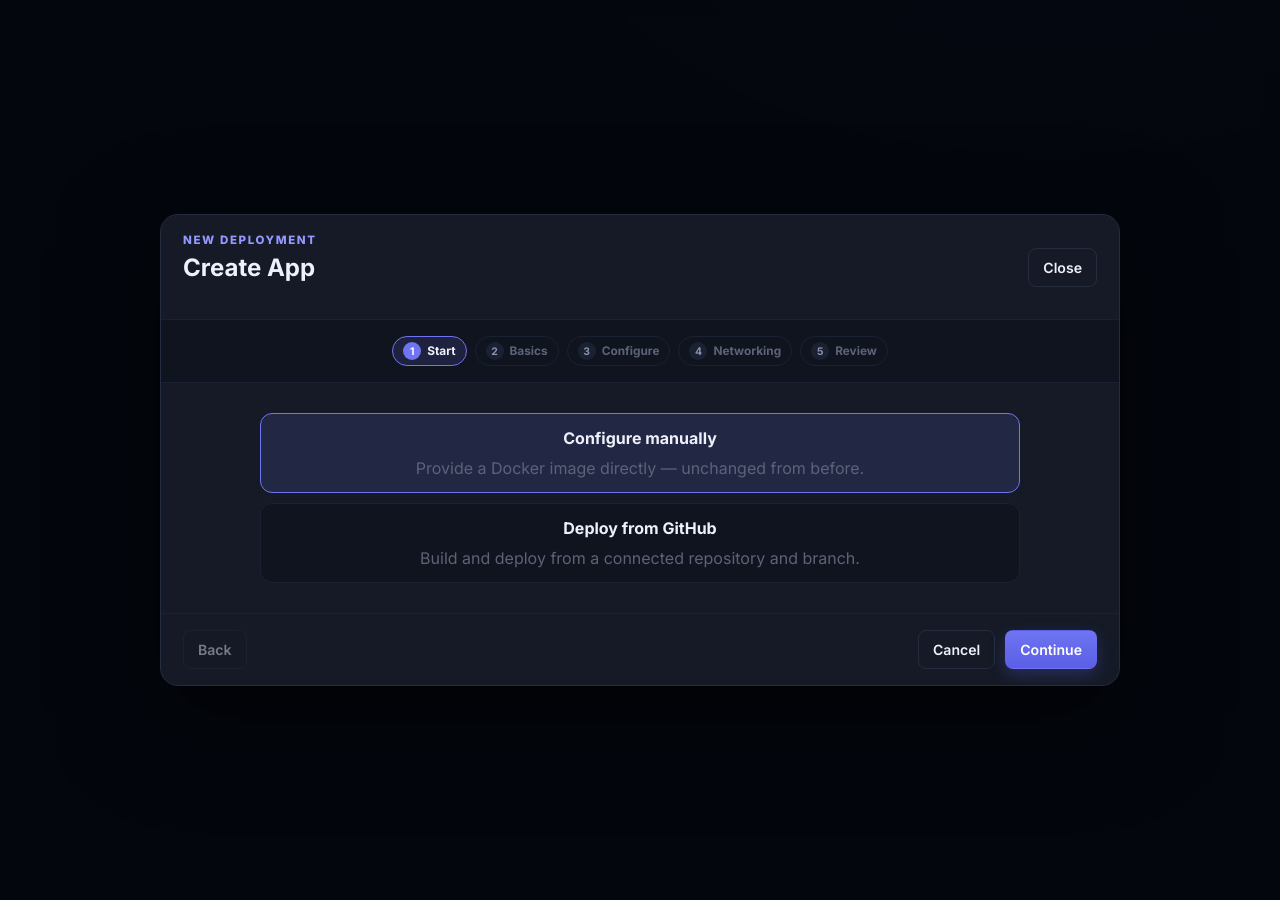
Scenario: CreateAppWizard — manual deployment-strategy override › a Node.js-detected repository can manually select Dockerfile
Step 1. Click the text "Deploy from GitHub" → [640, 528], box [563,518,717,538]
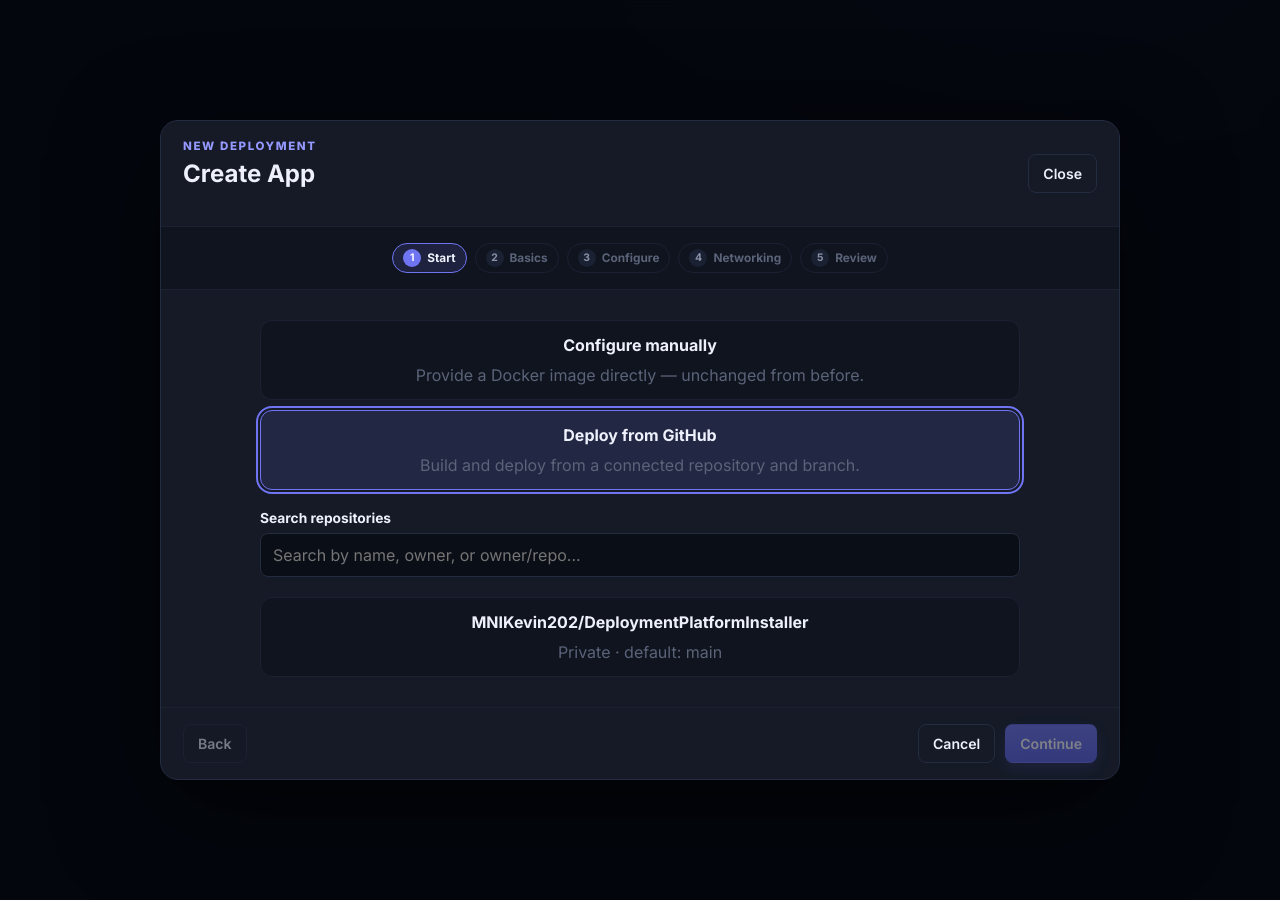
Step 2. Click the text "MNIKevin202/DeploymentPlatformInstaller" → [640, 622], box [471,612,809,632]
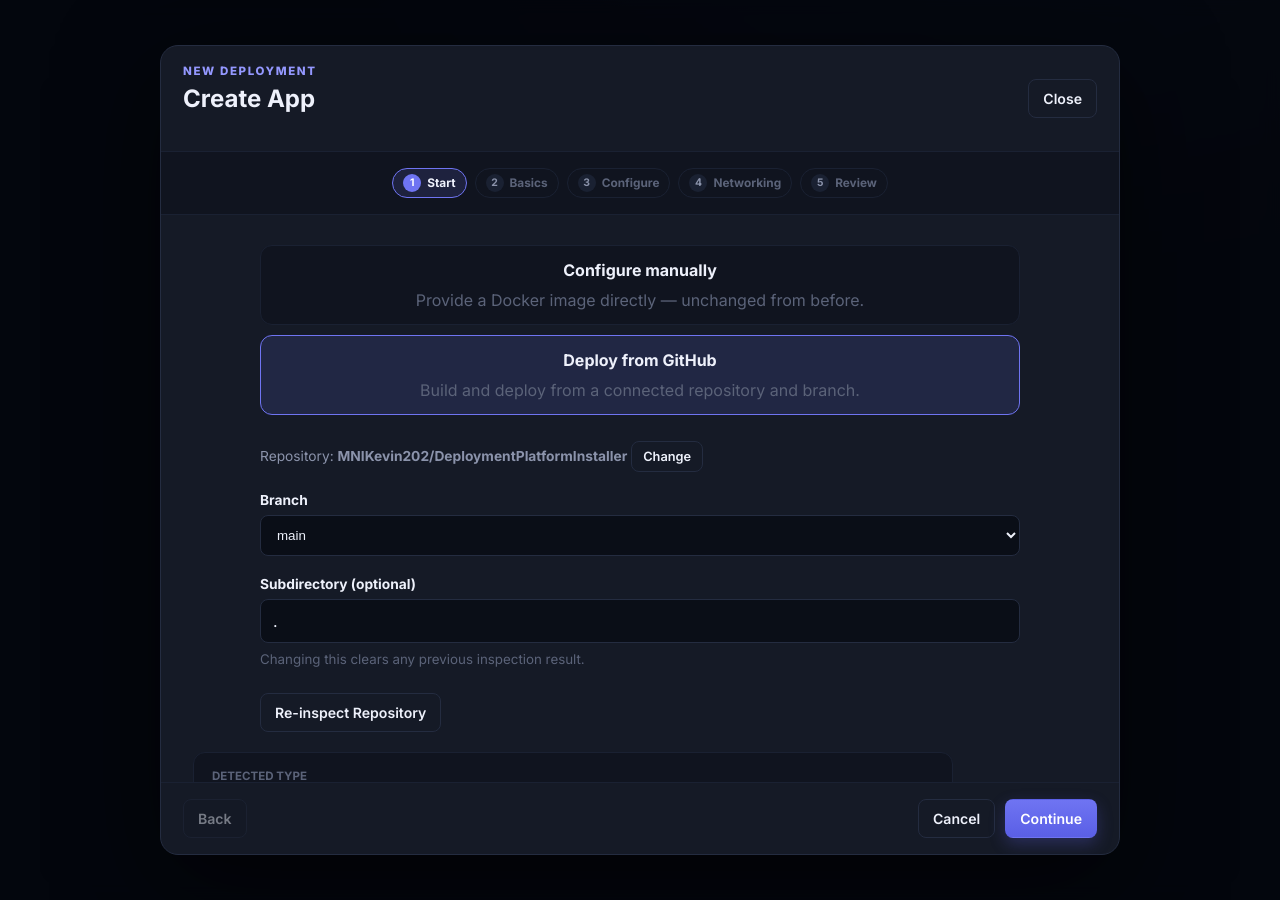
Step 3. Click the text "MNIKevin202/DeploymentPlatformInstaller" → [482, 456], box [338,448,627,464]
(page scrolled)
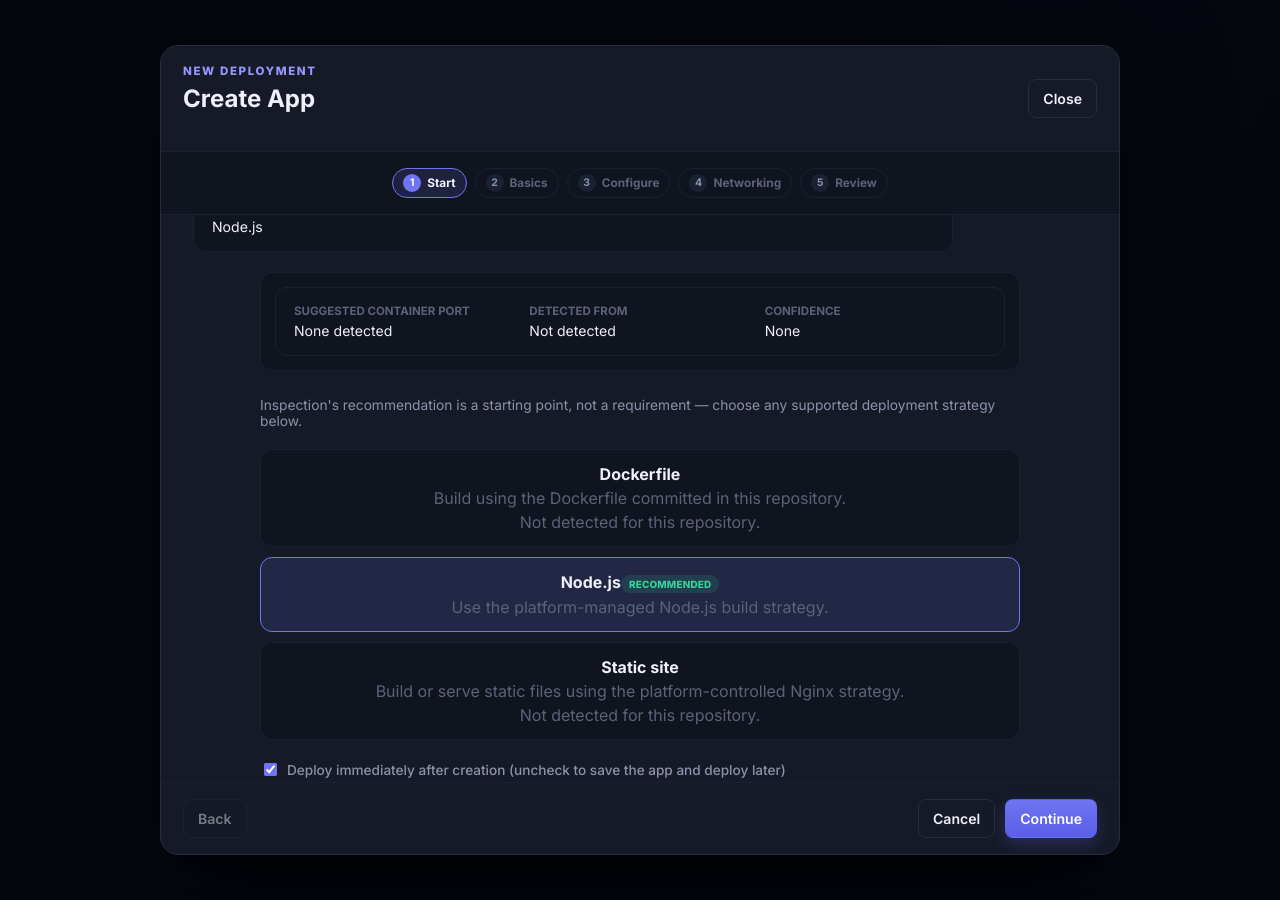
Result: the button that starts with "Dockerfile" is enabled
Step 4. Click the button that starts with "Dockerfile" → [640, 498], box [260,449,1020,547]
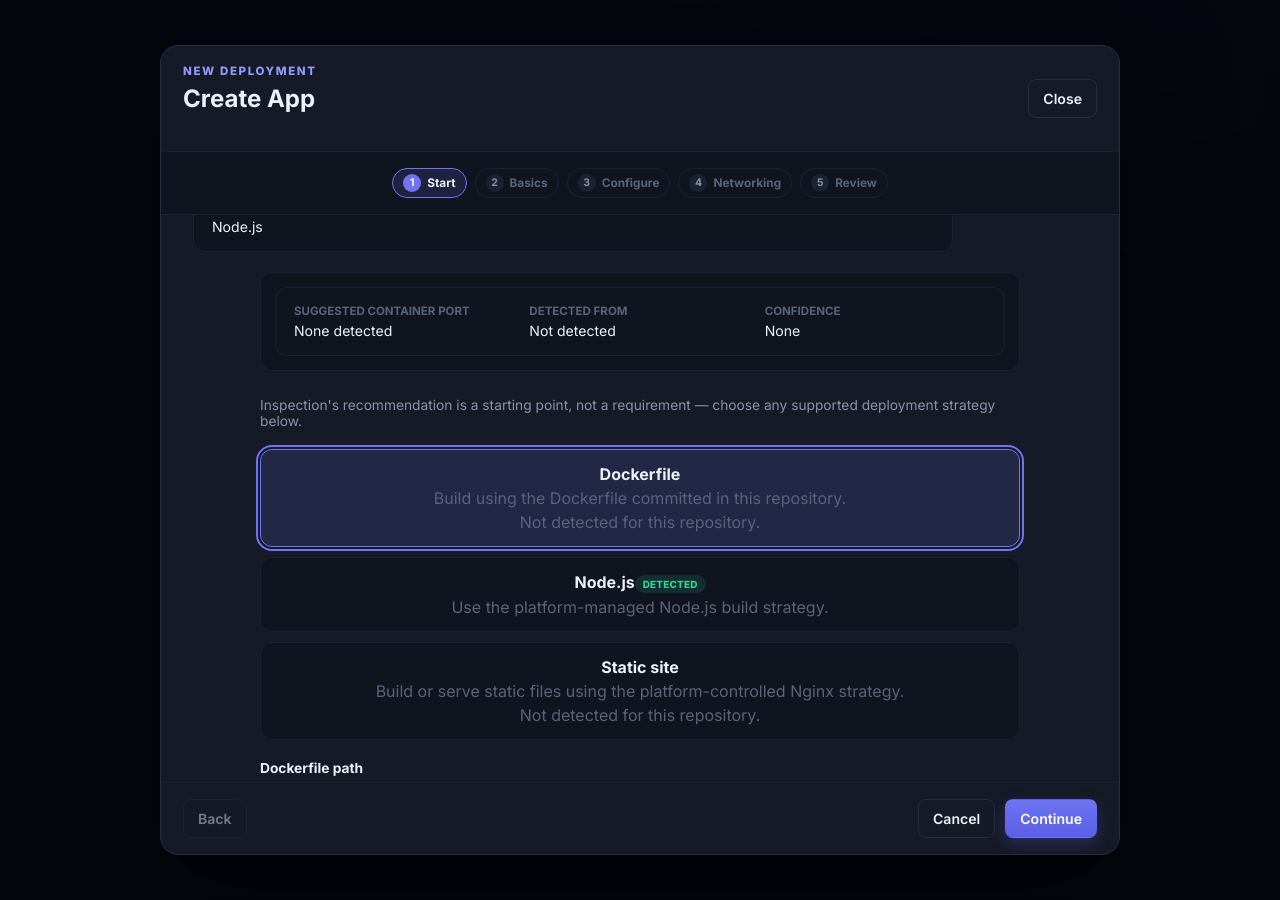
Result: the text "Dockerfile path" is shown at [260,760,363,776]
